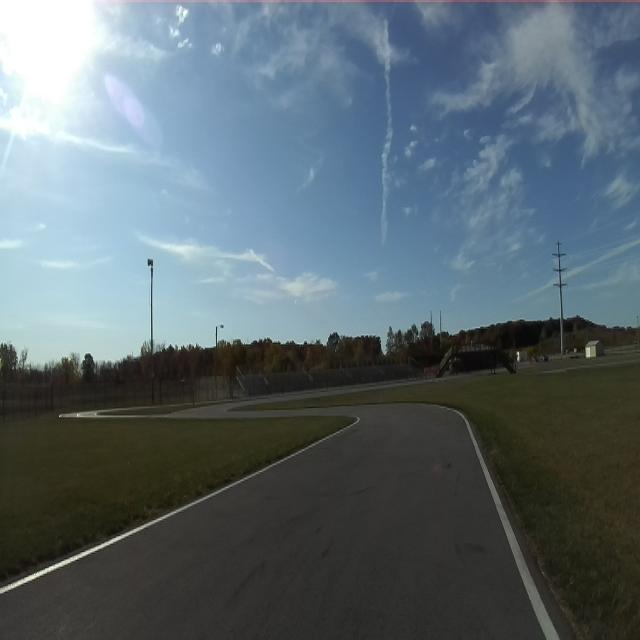white-line: (0, 417, 360, 594), (446, 407, 560, 639)
